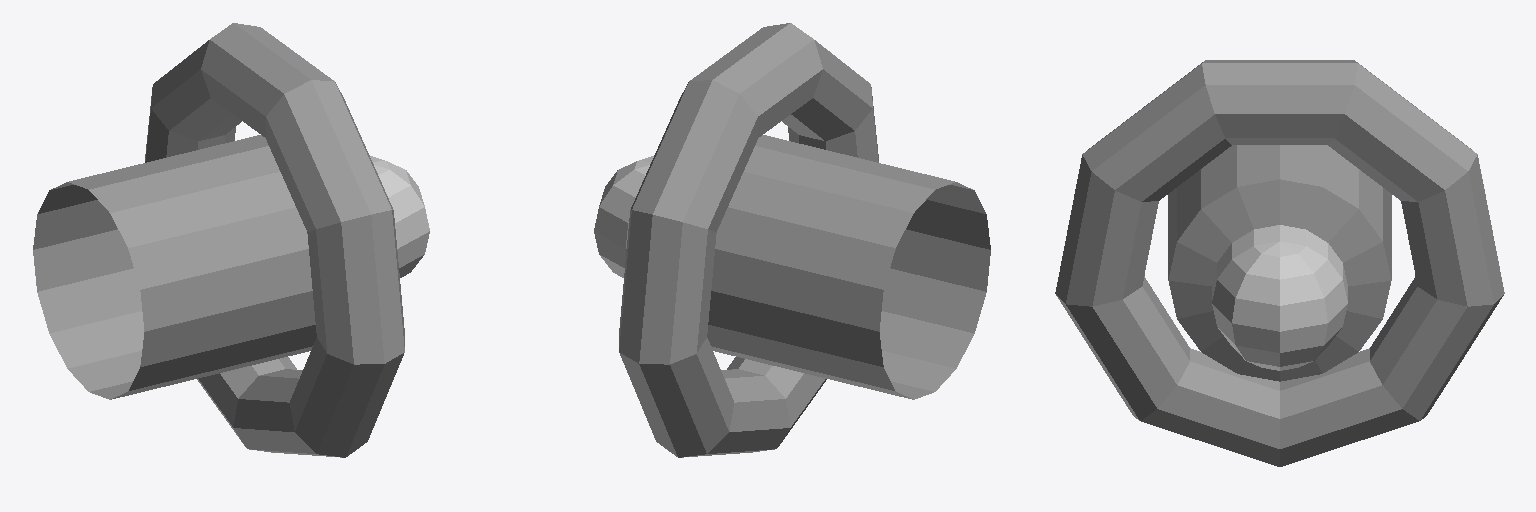
File: receiver.obj
The picture shows the model from 3 angles: view 1: azimuth 30°, elevation 25°; view 2: azimuth 150°, elevation 25°; view 3: azimuth 270°, elevation 25°; orthographic projection.
Parts seen in each view (by area): view 1: Main, Ring, Receiver; view 2: Main, Ring, Receiver; view 3: Ring, Main, Receiver.
Boxes of the visible parts, x1=… form: Main: x1=33, y1=135, x2=316, y2=399; Ring: x1=145, y1=23, x2=404, y2=457; Receiver: x1=370, y1=156, x2=429, y2=277; Main: x1=707, y1=135, x2=990, y2=399; Ring: x1=619, y1=23, x2=878, y2=457; Receiver: x1=594, y1=156, x2=653, y2=277; Ring: x1=1055, y1=60, x2=1504, y2=466; Main: x1=1168, y1=145, x2=1391, y2=381; Receiver: x1=1212, y1=225, x2=1347, y2=370.
Bounding box in the file's own units: 0.689 × 0.7895 × 0.8017.